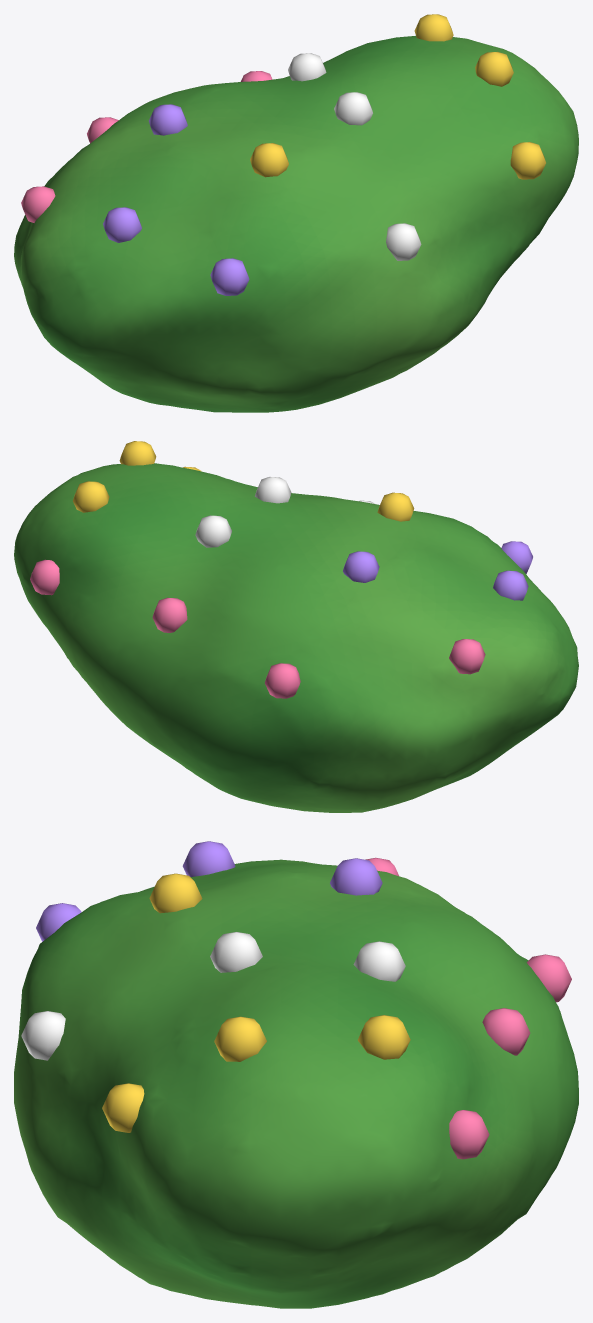
The model's file is bush_flowers.glb.
The picture shows the model from 3 angles, top to bottom: view 1: azimuth 30°, elevation 25°; view 2: azimuth 150°, elevation 25°; view 3: azimuth 270°, elevation 25°; orthographic projection. The views are drawn at different scales.
Visible parts, largest first — view 1: bush_flowers, bush_flowers_fl2, bush_flowers_fl1, bush_flowers_fl10, bush_flowers_fl7, bush_flowers_fl9, bush_flowers_fl13, bush_flowers_fl3, bush_flowers_fl6, bush_flowers_fl5, bush_flowers_fl11, bush_flowers_fl4; view 2: bush_flowers, bush_flowers_fl0, bush_flowers_fl4, bush_flowers_fl8, bush_flowers_fl11, bush_flowers_fl6, bush_flowers_fl5, bush_flowers_fl12, bush_flowers_fl10, bush_flowers_fl9, bush_flowers_fl3, bush_flowers_fl13 (+1 smaller); view 3: bush_flowers, bush_flowers_fl13, bush_flowers_fl5, bush_flowers_fl7, bush_flowers_fl3, bush_flowers_fl9, bush_flowers_fl8, bush_flowers_fl12, bush_flowers_fl11, bush_flowers_fl6, bush_flowers_fl1, bush_flowers_fl10 (+2 smaller).
Boxes of the visible parts, <box> form: bush_flowers: <box>14,35,578,412</box>; bush_flowers_fl2: <box>210,258,249,295</box>; bush_flowers_fl1: <box>510,142,545,179</box>; bush_flowers_fl10: <box>103,207,141,242</box>; bush_flowers_fl7: <box>386,223,421,260</box>; bush_flowers_fl9: <box>250,143,288,177</box>; bush_flowers_fl13: <box>475,51,513,86</box>; bush_flowers_fl3: <box>334,92,372,125</box>; bush_flowers_fl6: <box>149,104,187,135</box>; bush_flowers_fl5: <box>414,14,453,41</box>; bush_flowers_fl11: <box>288,53,326,81</box>; bush_flowers_fl4: <box>21,186,55,222</box>; bush_flowers: <box>14,463,578,812</box>; bush_flowers_fl0: <box>265,663,300,698</box>; bush_flowers_fl4: <box>449,639,485,674</box>; bush_flowers_fl8: <box>152,597,187,632</box>; bush_flowers_fl11: <box>195,515,231,547</box>; bush_flowers_fl6: <box>343,551,379,582</box>; bush_flowers_fl5: <box>73,481,109,512</box>; bush_flowers_fl12: <box>30,559,59,595</box>; bush_flowers_fl10: <box>493,570,528,600</box>; bush_flowers_fl9: <box>377,492,414,521</box>; bush_flowers_fl3: <box>255,477,291,503</box>; bush_flowers_fl13: <box>119,441,156,465</box>; bush_flowers: <box>14,859,578,1308</box>; bush_flowers_fl13: <box>214,1016,266,1061</box>; bush_flowers_fl5: <box>358,1015,410,1059</box>; bush_flowers_fl7: <box>21,1011,65,1060</box>; bush_flowers_fl3: <box>210,932,262,972</box>; bush_flowers_fl9: <box>149,873,202,913</box>; bush_flowers_fl8: <box>482,1008,530,1055</box>; bush_flowers_fl12: <box>449,1110,489,1159</box>; bush_flowers_fl11: <box>353,941,405,981</box>; bush_flowers_fl6: <box>330,858,382,895</box>; bush_flowers_fl1: <box>102,1083,144,1132</box>; bush_flowers_fl10: <box>182,841,235,876</box>.
Size of the model in its own units: 2.02 by 1.05 by 1.39.
